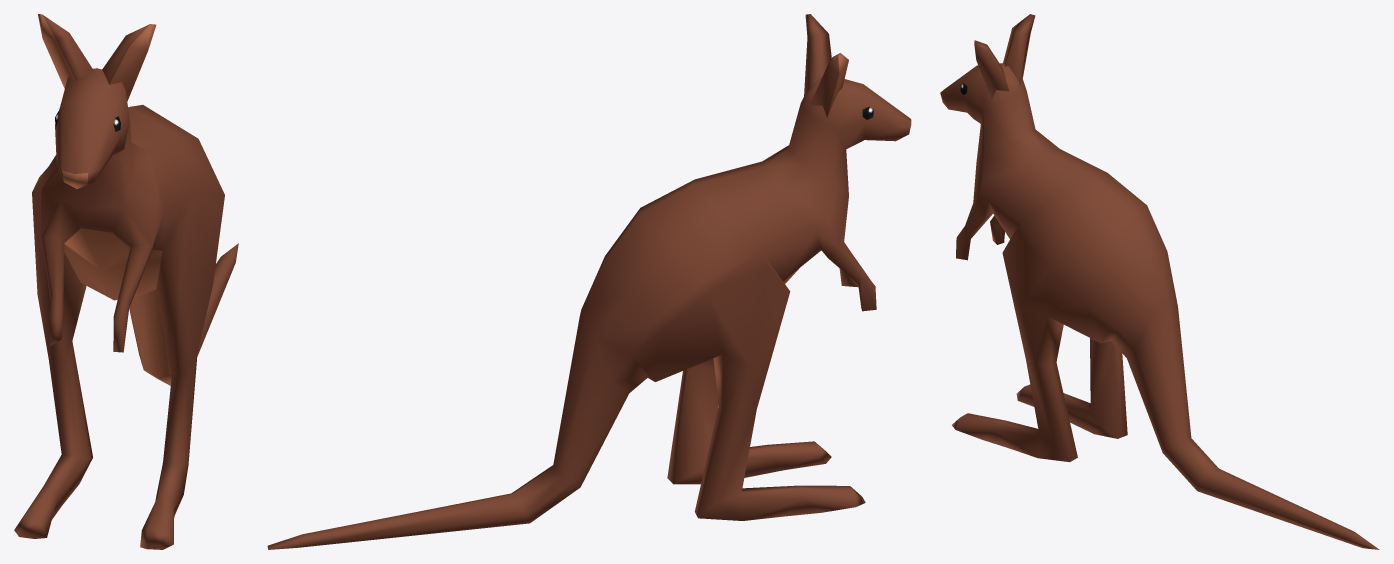
File: Kangaroo02.glb
3 renders of one model, left to right at view 1: azimuth 30°, elevation 25°; view 2: azimuth 150°, elevation 25°; view 3: azimuth 270°, elevation 25°, orthographic. The views are drawn at different scales.
Visible parts, largest first — view 1: Kangaroo02; view 2: Kangaroo02; view 3: Kangaroo02.
Boxes of the visible parts, bbox=[...] form: Kangaroo02: bbox=[14, 14, 238, 549]; Kangaroo02: bbox=[267, 14, 911, 549]; Kangaroo02: bbox=[940, 14, 1379, 549].
Size of what is drawn, in the model's own units: 1.74 by 1.89 by 1.93.
1 material, 1 textured.
